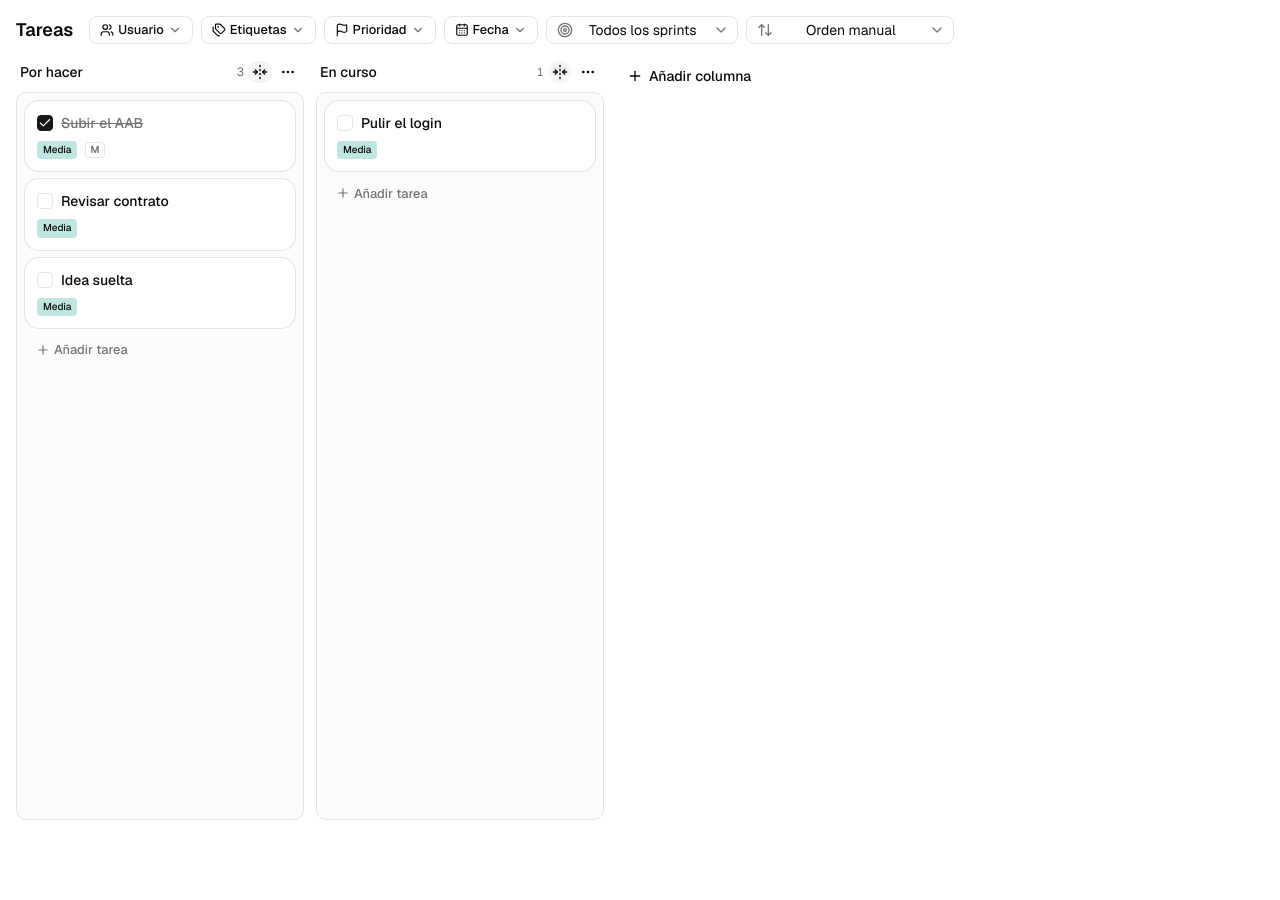
Test: TaskBoard: sprints › elegir otro sprint en el selector cambia la URL y la cabecera
Click the dropdown named "Filtrar por sprint" at (642, 30), box [546,16,738,44]
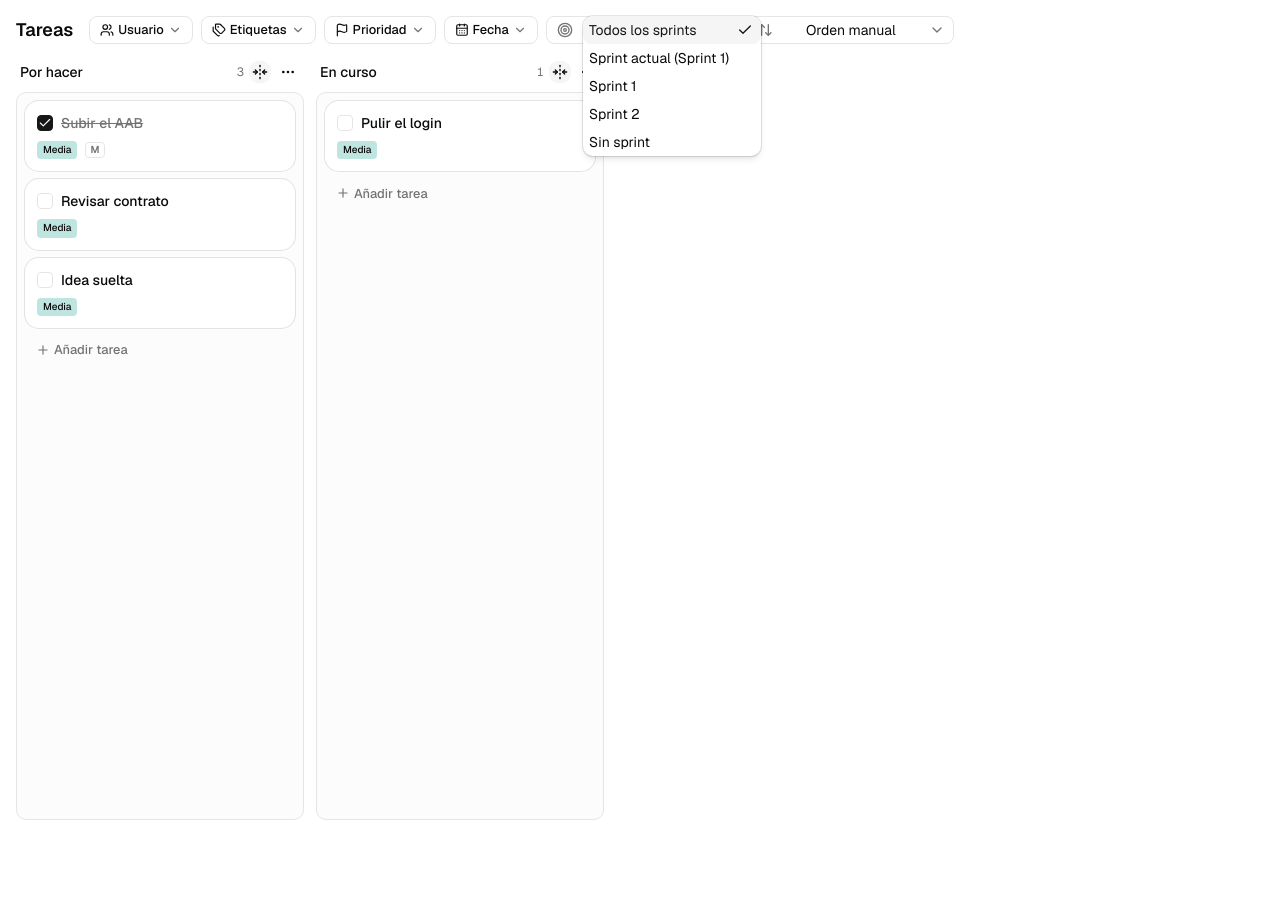
Click the option "Sprint 2" at (614, 114), box [589,105,640,123]
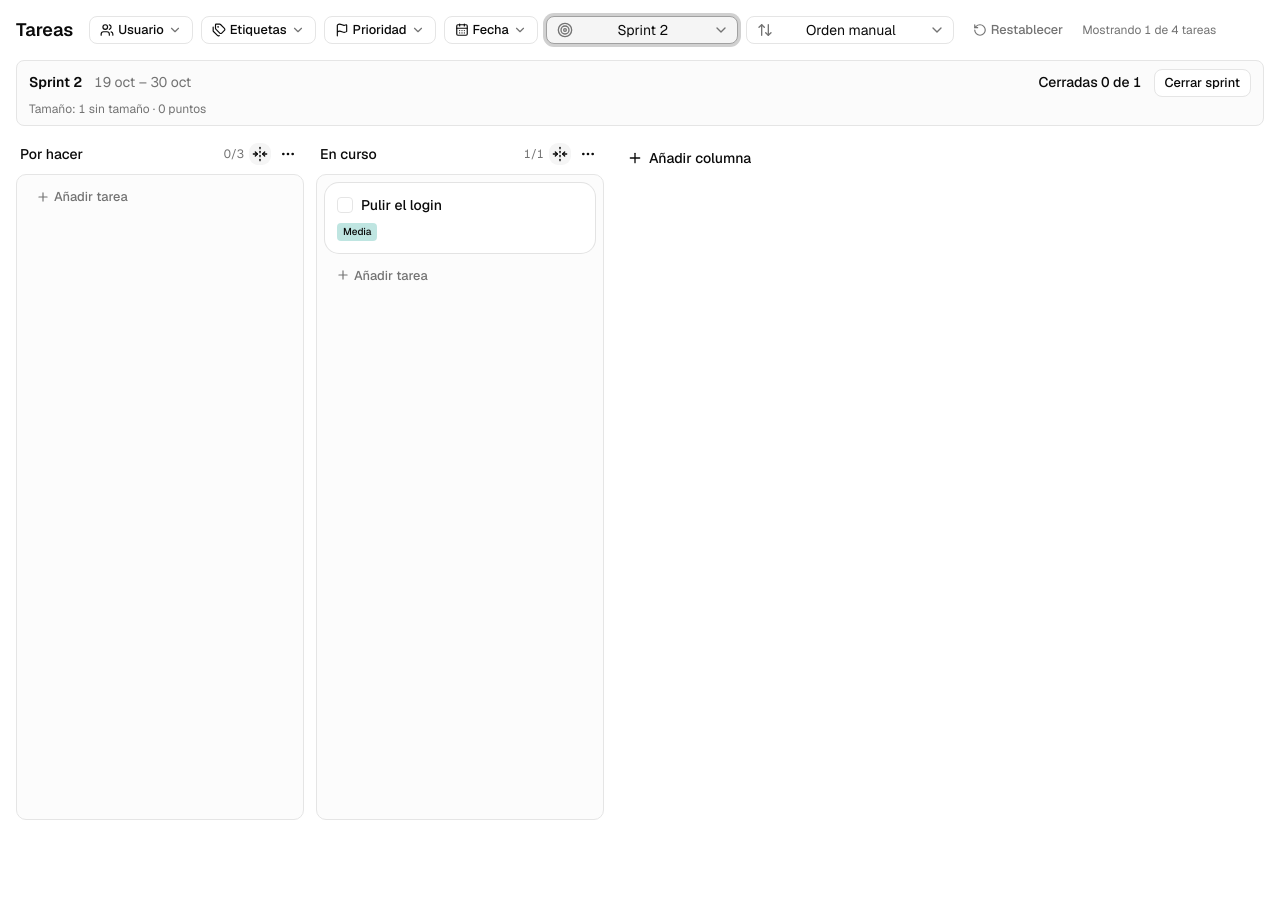
Now the text "Cerradas 0 de 1" is shown, box [1038,72,1142,92]
